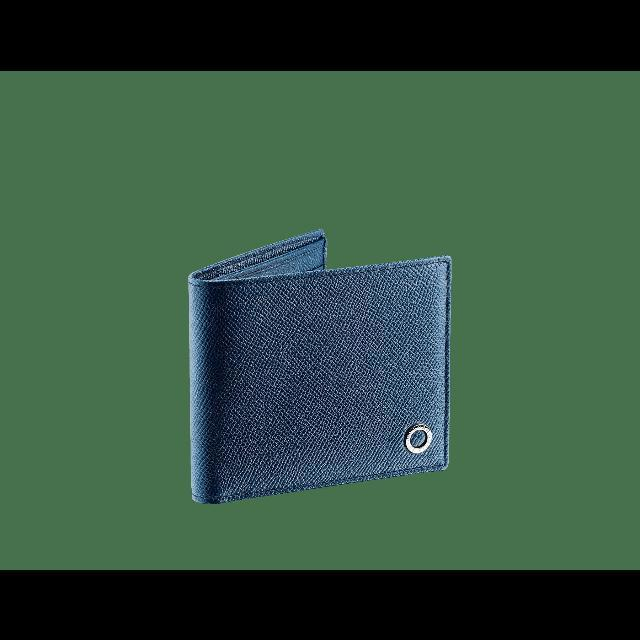wallet: (183, 225, 451, 510)
